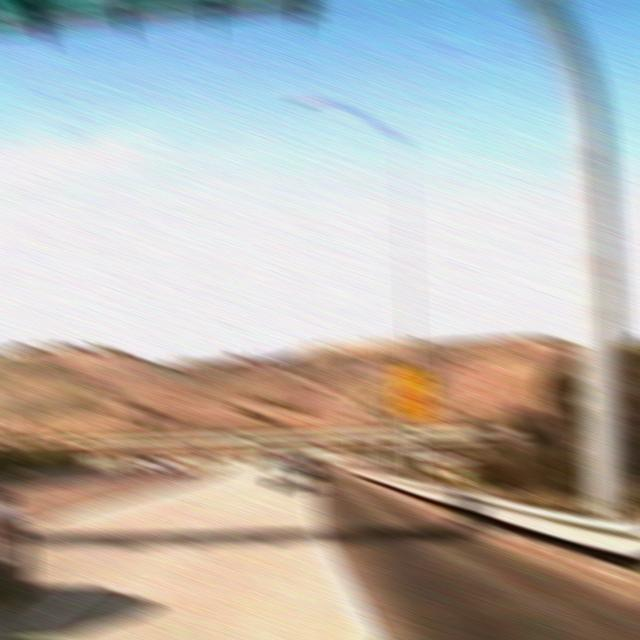speedLimit50: (391, 362, 433, 422)
